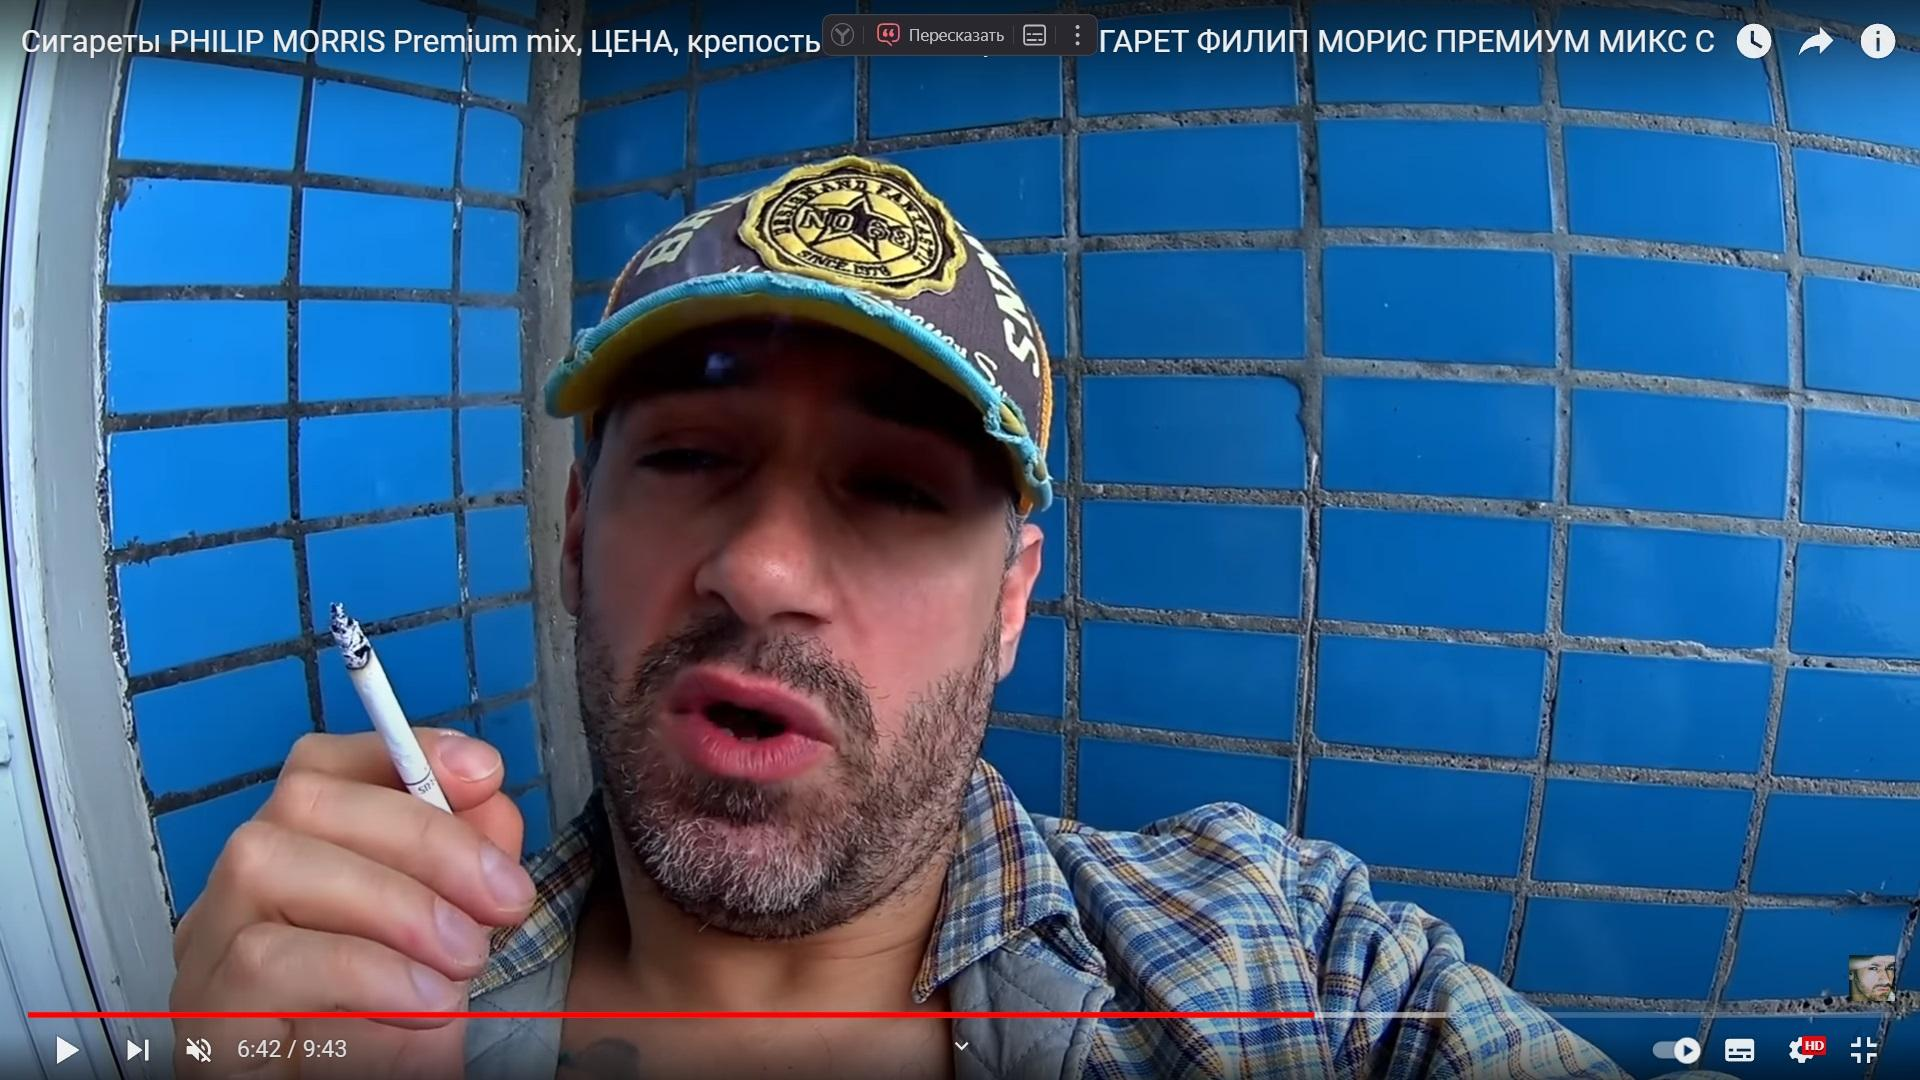cigarette: (328, 600, 454, 816)
